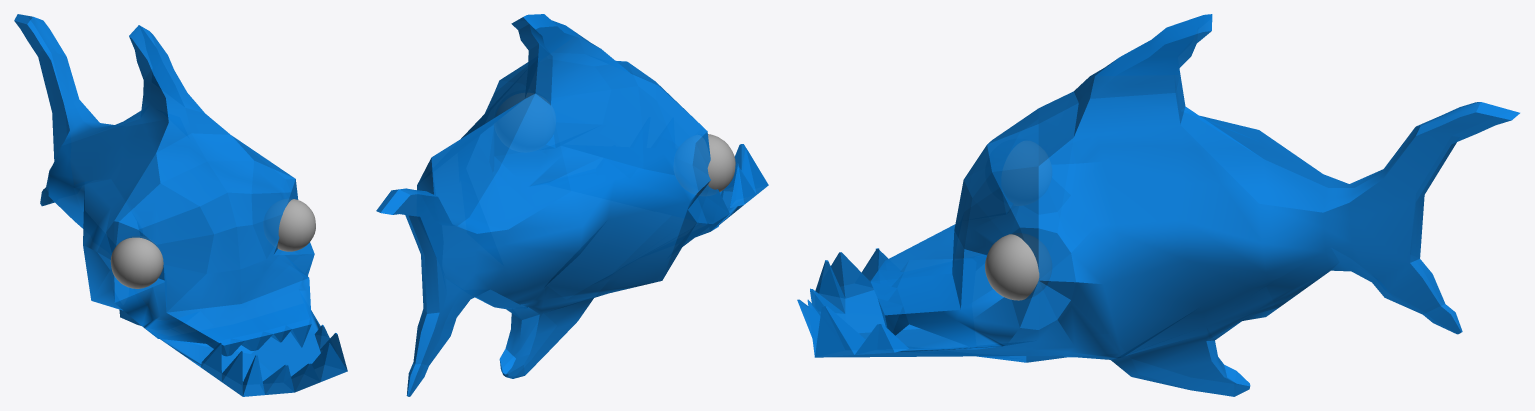
The model's file is evilfishnew.fbx.
3 views of the same model, side by side, from view 1: azimuth 30°, elevation 25°; view 2: azimuth 150°, elevation 25°; view 3: azimuth 270°, elevation 25° (orthographic). The views are drawn at different scales.
Parts seen in each view (by area): view 1: pSphere4; view 2: pSphere4; view 3: pSphere4.
Boxes of the visible parts, left/top/right/bottom form: pSphere4: left=14, top=14, right=347, bottom=396; pSphere4: left=376, top=14, right=768, bottom=396; pSphere4: left=797, top=14, right=1519, bottom=396.
Bounding box in the file's own units: 4.31 × 6.17 × 10.56.
